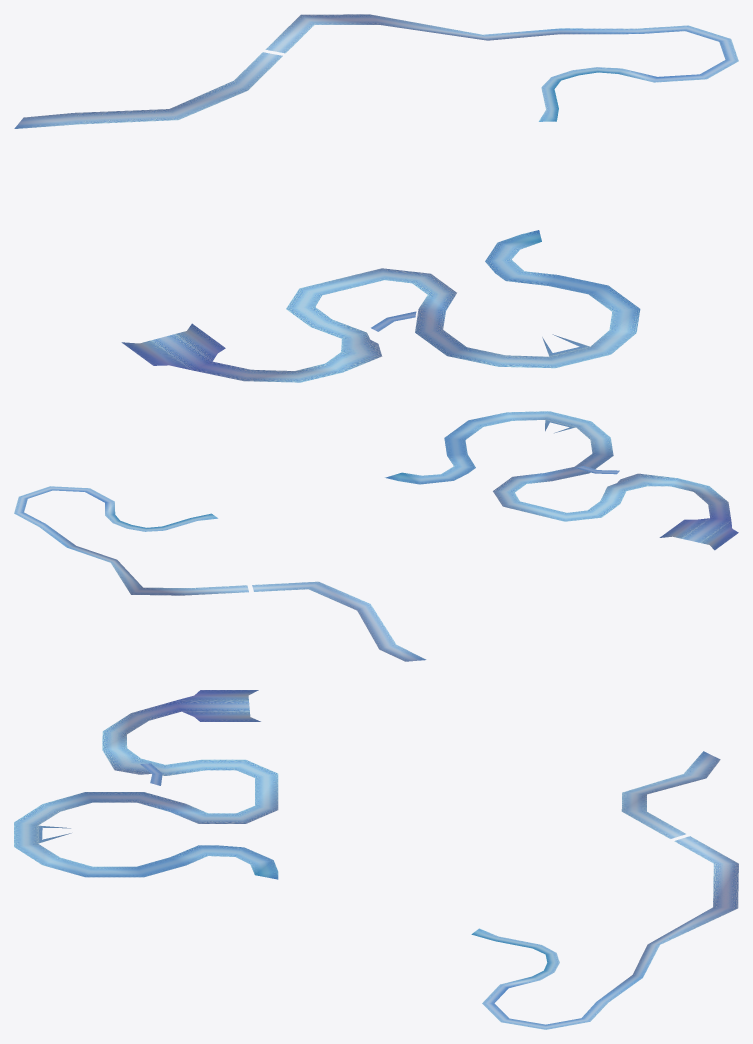
File: object_20_lev2.glb
3 views of the same model, one above another, from view 1: azimuth 30°, elevation 25°; view 2: azimuth 150°, elevation 25°; view 3: azimuth 270°, elevation 25° (orthographic). The views are drawn at different scales.
Visible parts, largest first — view 1: object_20_lev2; view 2: object_20_lev2; view 3: object_20_lev2.
Boxes of the visible parts, <box> form: object_20_lev2: <box>14,14,738,382</box>; object_20_lev2: <box>14,411,738,661</box>; object_20_lev2: <box>14,690,738,1029</box>.
Size of the model in its own units: 136 by 4.29 by 123.
1 material, 1 textured.
